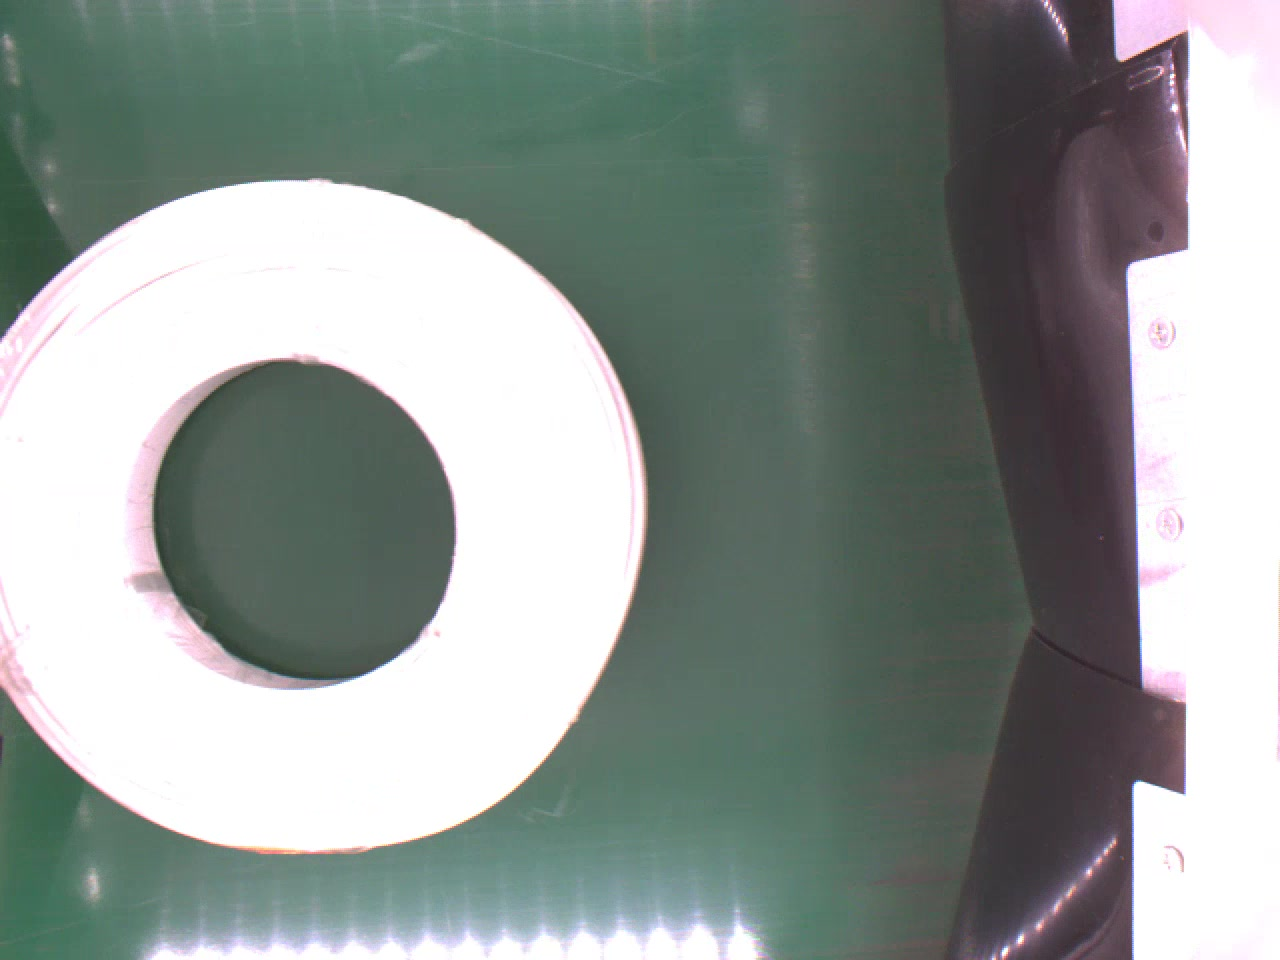white: (0, 173, 651, 858)
